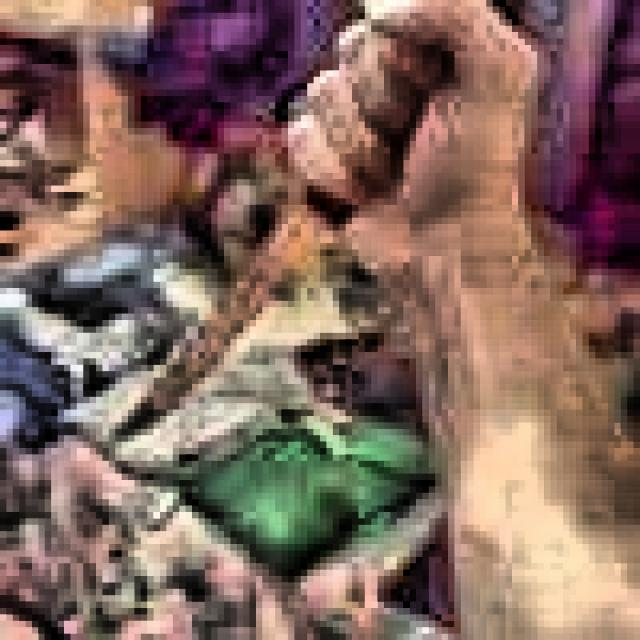knife: (114, 192, 356, 446)
